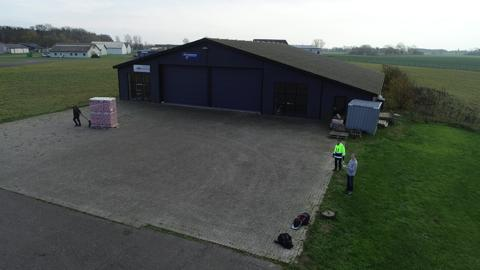RockwoolPallet: (88, 96, 119, 129)
